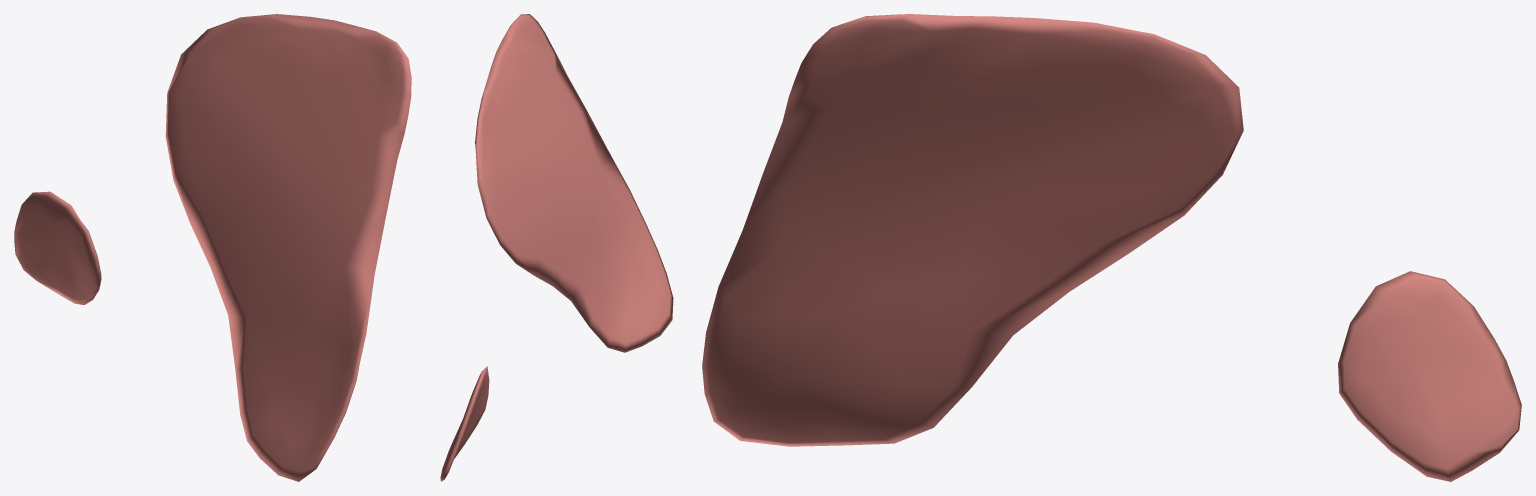
The picture shows the model from 3 angles, left to right: view 1: azimuth 30°, elevation 25°; view 2: azimuth 150°, elevation 25°; view 3: azimuth 270°, elevation 25°; orthographic projection. The views are drawn at different scales.
Parts seen in each view (by area): view 1: ZA_7b649b10074d3e09; view 2: ZA_7b649b10074d3e09; view 3: ZA_7b649b10074d3e09.
Part boxes in pixels (<box>): ZA_7b649b10074d3e09: <box>14,14,411,481</box>; ZA_7b649b10074d3e09: <box>440,14,673,481</box>; ZA_7b649b10074d3e09: <box>702,14,1521,481</box>.
Bounding box in the file's own units: 0.0108 × 0.0252 × 0.0345.
